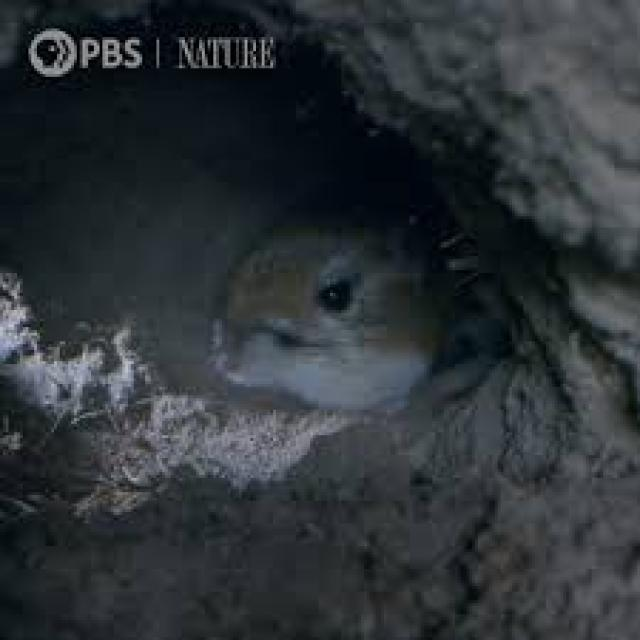Rat: (188, 196, 495, 461)
